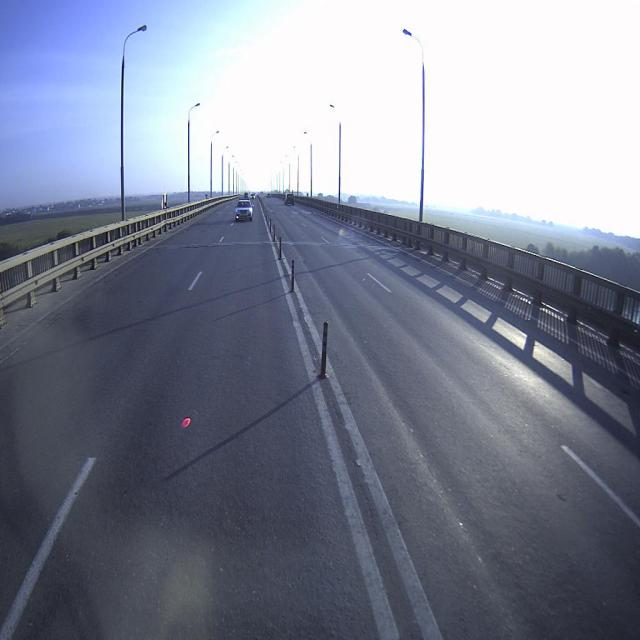road: (0, 198, 640, 639)
